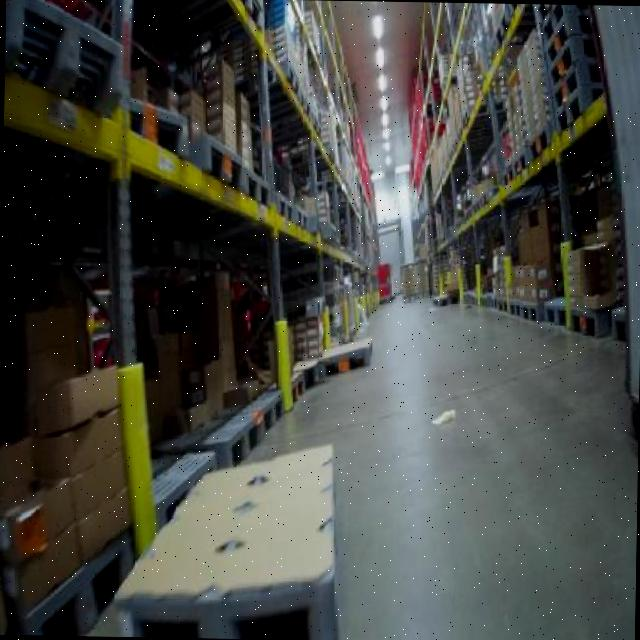pallet: (6, 0, 132, 118), (161, 411, 265, 470), (192, 125, 252, 204), (540, 32, 603, 96), (549, 78, 602, 141), (313, 337, 377, 386), (240, 386, 290, 442), (563, 303, 604, 344), (272, 188, 298, 229), (519, 297, 543, 332)
